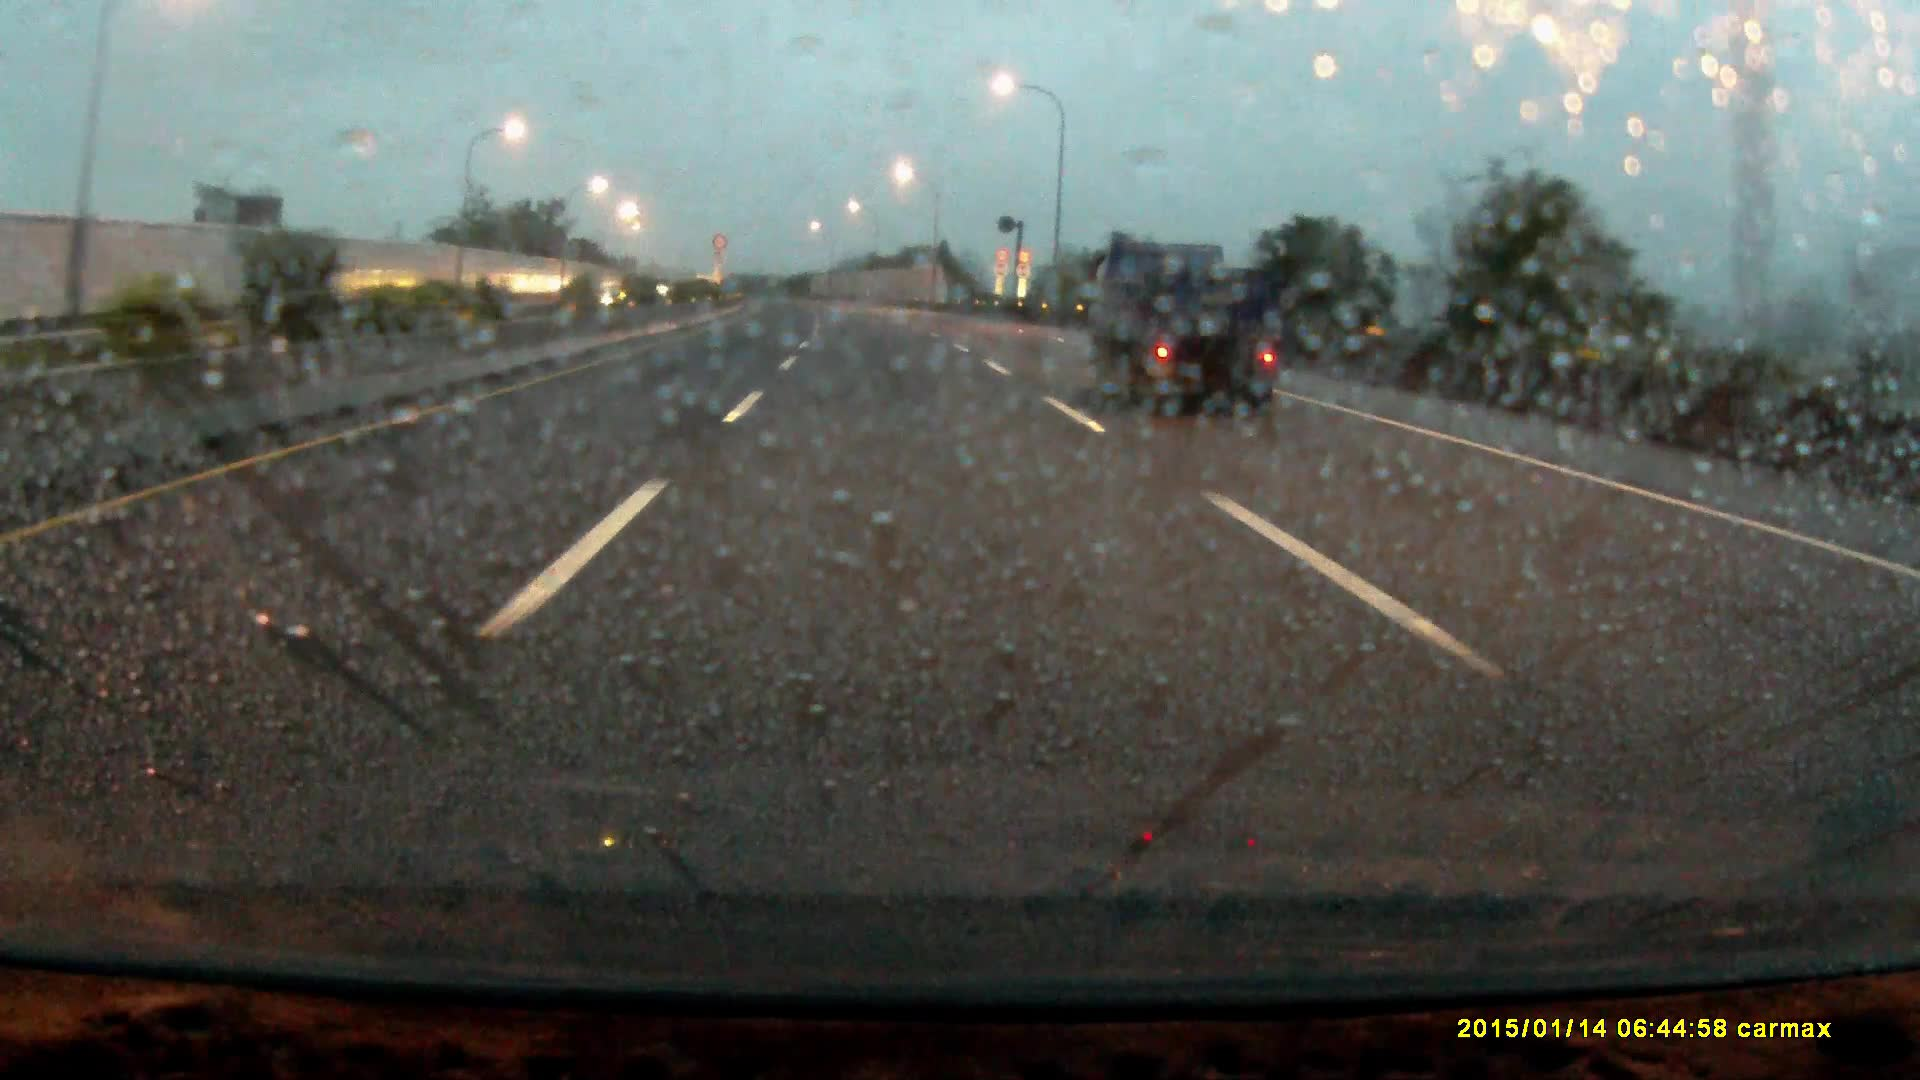vehicle: (1085, 244, 1280, 414)
